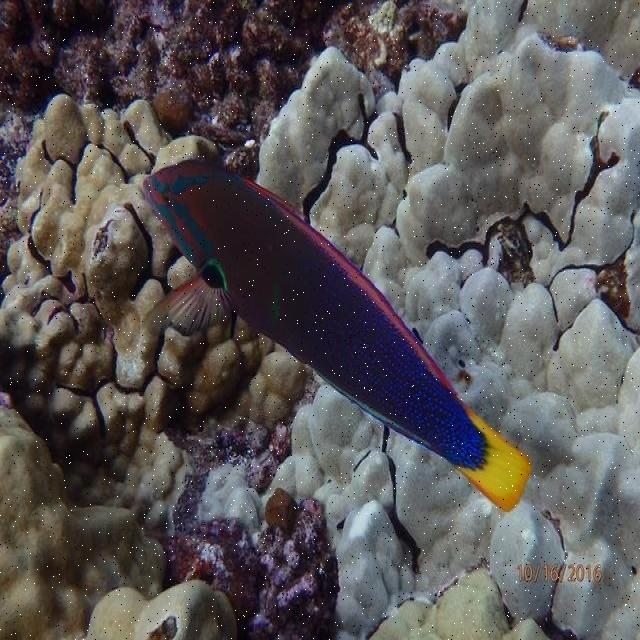fish: (144, 158, 534, 510)
reefs: (257, 1, 639, 639), (0, 95, 312, 639)
